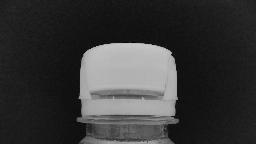Broken Cap: (73, 39, 181, 126)
